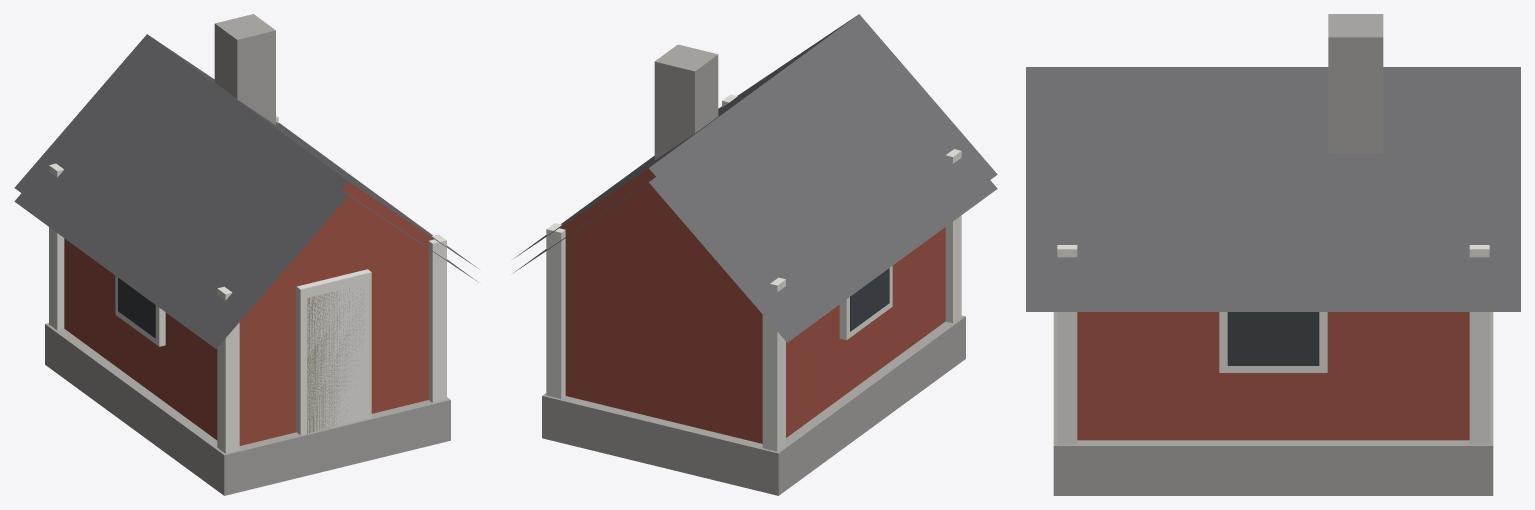
The model's file is shed.glb.
The picture shows the model from 3 angles, left to right: view 1: azimuth 30°, elevation 25°; view 2: azimuth 150°, elevation 25°; view 3: azimuth 270°, elevation 25°; orthographic projection. The views are drawn at different scales.
Parts seen in each view (by area): view 1: shed_LOD0; view 2: shed_LOD0; view 3: shed_LOD0.
Boxes of the visible parts, left/top/right/bottom form: shed_LOD0: left=14, top=14, right=479, bottom=495; shed_LOD0: left=514, top=14, right=997, bottom=495; shed_LOD0: left=1026, top=14, right=1520, bottom=495.
Size of what is drawn, in the model's own units: 4.1 by 5.07 by 5.4.
